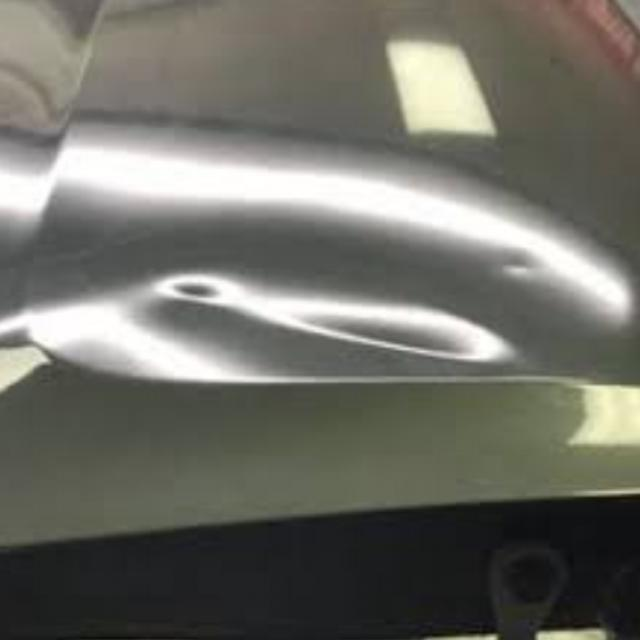dents: (142, 243, 249, 346), (492, 232, 541, 296)
